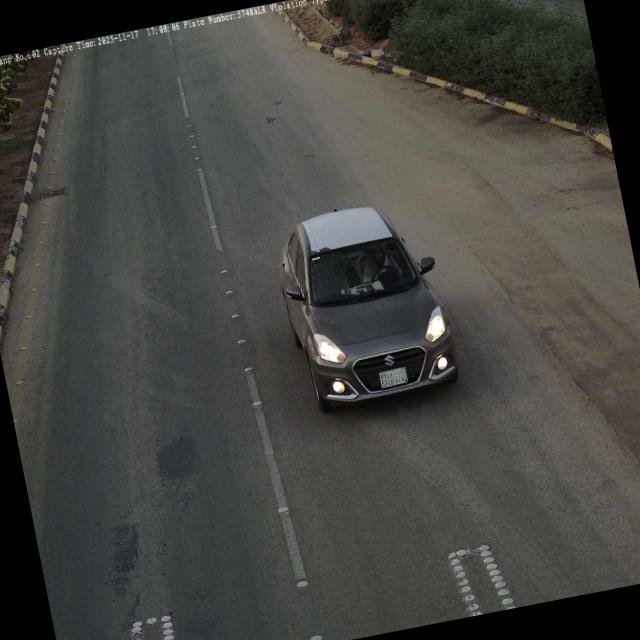person_without_seatbelt: (358, 242, 401, 286)
